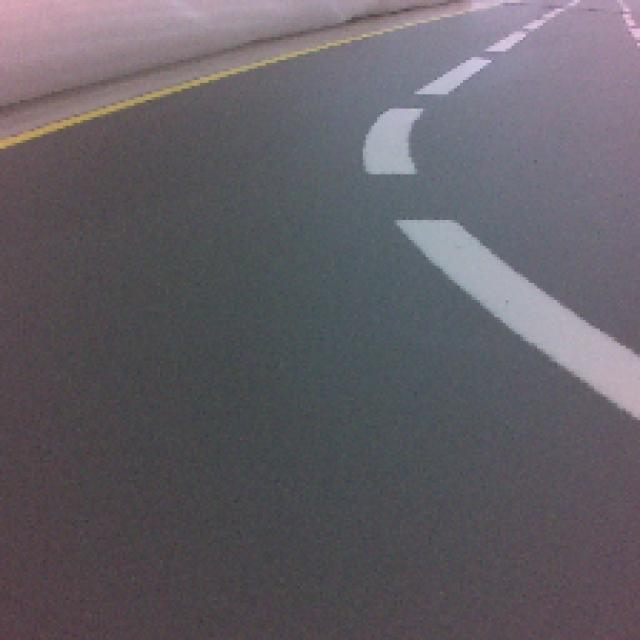Road: (3, 412, 640, 640)
